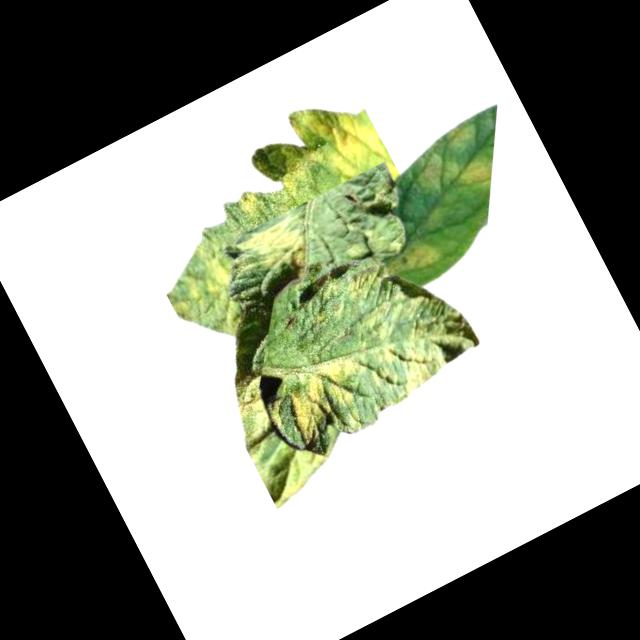Leaf_Mold: (255, 78, 392, 207), (150, 235, 258, 356), (273, 343, 387, 456), (406, 125, 505, 211), (235, 211, 321, 295), (374, 319, 457, 400), (220, 362, 281, 425), (381, 230, 444, 286), (342, 260, 388, 302), (231, 184, 268, 222), (444, 115, 483, 151)
